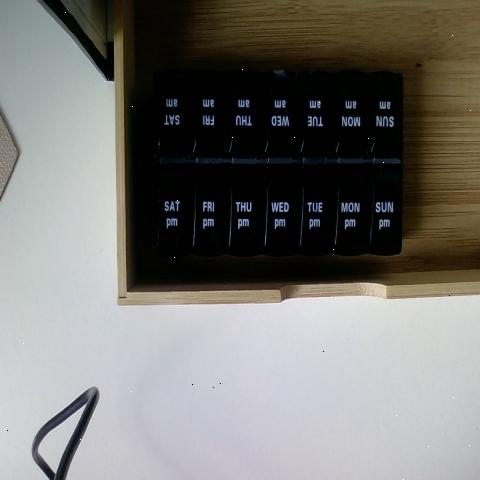FRI-am: (194, 79, 229, 167)
FRI-pm: (195, 167, 230, 252)
MON-am: (332, 77, 366, 168)
MON-pm: (334, 174, 372, 258)
SAT-am: (154, 82, 195, 171)
SAT-pm: (156, 185, 192, 277)
SUN-am: (368, 73, 403, 171)
SUN-pm: (369, 173, 405, 257)
THU-am: (231, 71, 264, 164), (302, 76, 332, 165)
THU-pm: (228, 168, 264, 264)
TUE-pm: (302, 168, 337, 250)
WED-am: (266, 78, 304, 166)
WED-pm: (264, 168, 299, 259)
